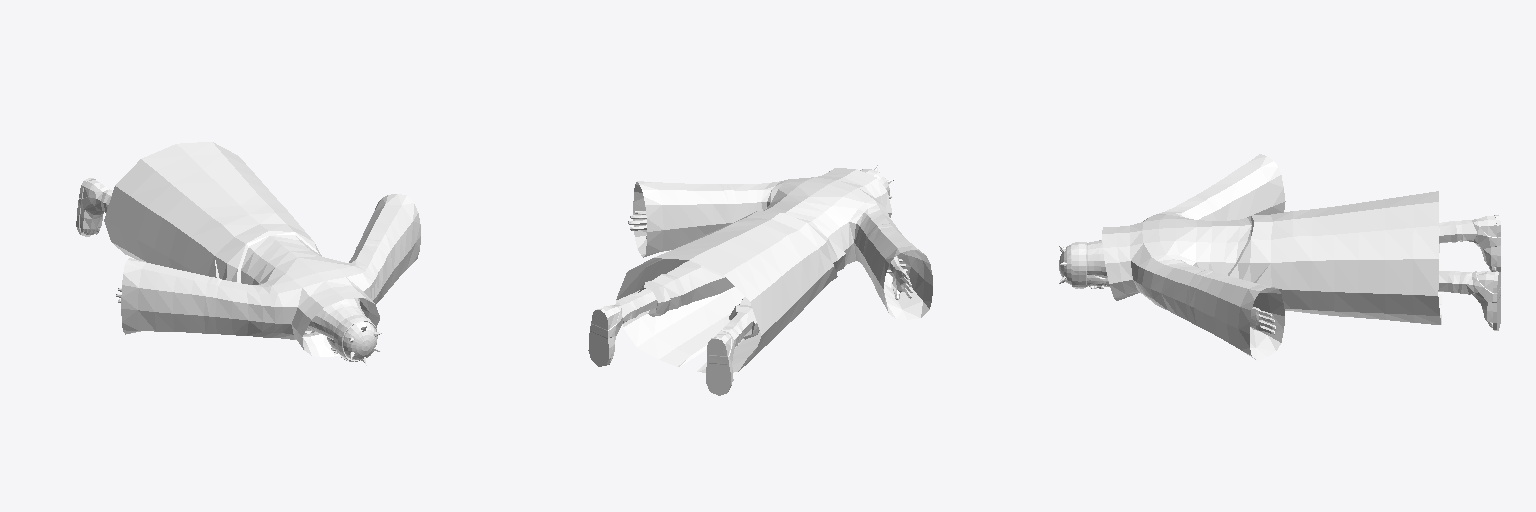
Rendered from pain.obj.
3 renders of one model, left to right at view 1: azimuth 30°, elevation 25°; view 2: azimuth 150°, elevation 25°; view 3: azimuth 270°, elevation 25°, orthographic.
Visible parts, largest first — view 1: _2pec00t0_body_, _2pec00t0_kami_; view 2: _2pec00t0_body_, _2pec00t0_hand_; view 3: _2pec00t0_body_, _2pec00t0_kami_.
Boxes of the visible parts, <box> form: _2pec00t0_body_: <box>76,142,420,356</box>; _2pec00t0_kami_: <box>334,315,381,365</box>; _2pec00t0_body_: <box>588,168,932,395</box>; _2pec00t0_hand_: <box>887,260,912,299</box>; _2pec00t0_body_: <box>1087,154,1500,360</box>; _2pec00t0_kami_: <box>1059,242,1086,288</box>.
Size of the model in its own units: 149 by 51.25 by 190.